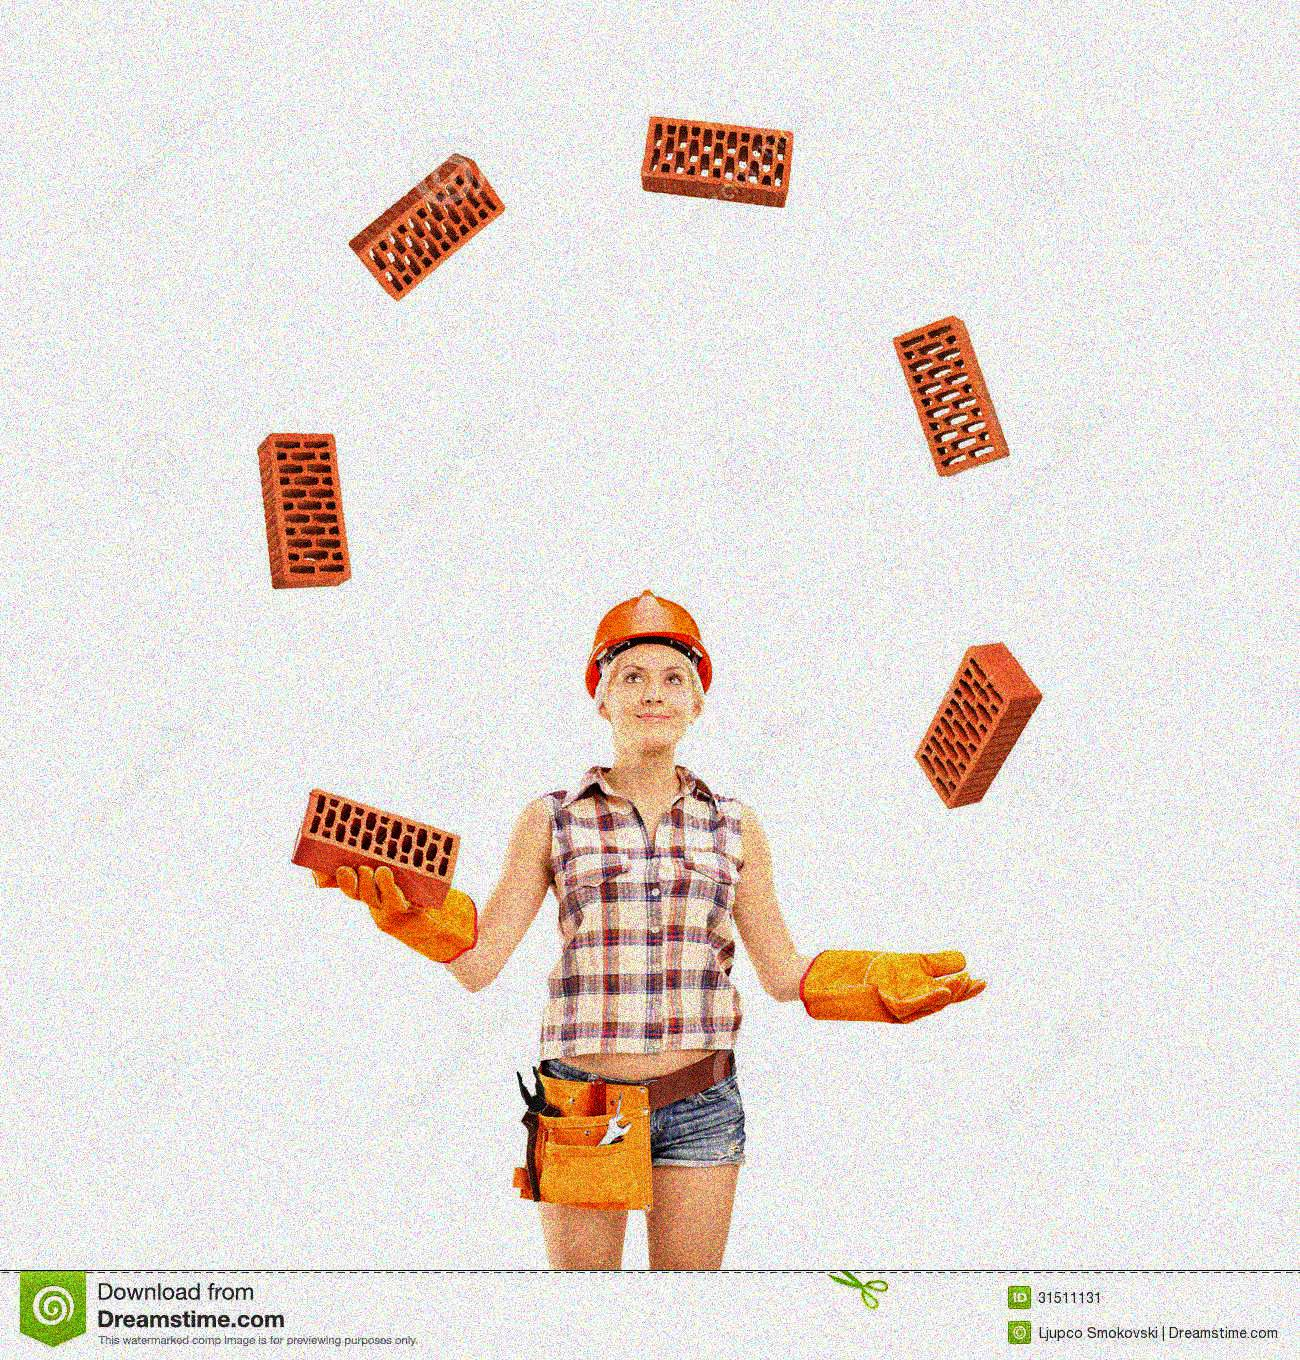helmet: (581, 594, 713, 756)
